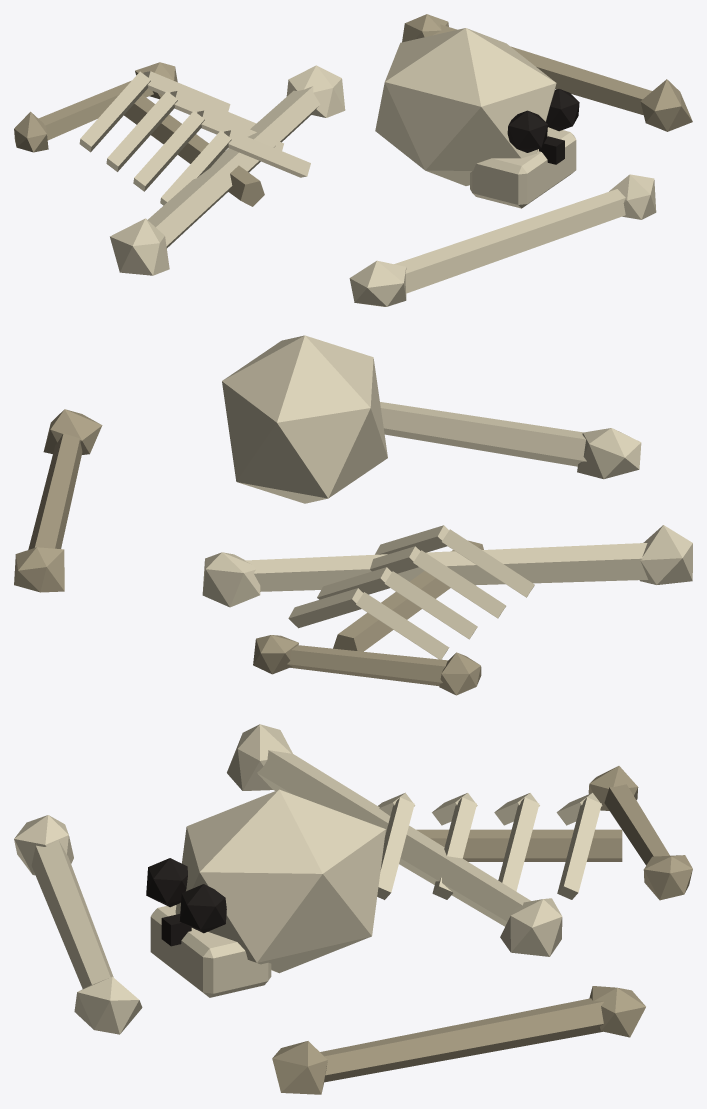
Rendered from env_bones.glb.
3 views of the same model, one above another, from view 1: azimuth 30°, elevation 25°; view 2: azimuth 150°, elevation 25°; view 3: azimuth 270°, elevation 25° (orthographic). The views are drawn at different scales.
Parts seen in each view (by area): view 1: env_bones; view 2: env_bones; view 3: env_bones.
Part boxes in pixels (x1,y1,x2,y2): env_bones: (14, 14, 692, 306); env_bones: (14, 335, 692, 695); env_bones: (14, 724, 692, 1094).
Bounding box in the file's own units: 1.3 × 0.338 × 1.13.
